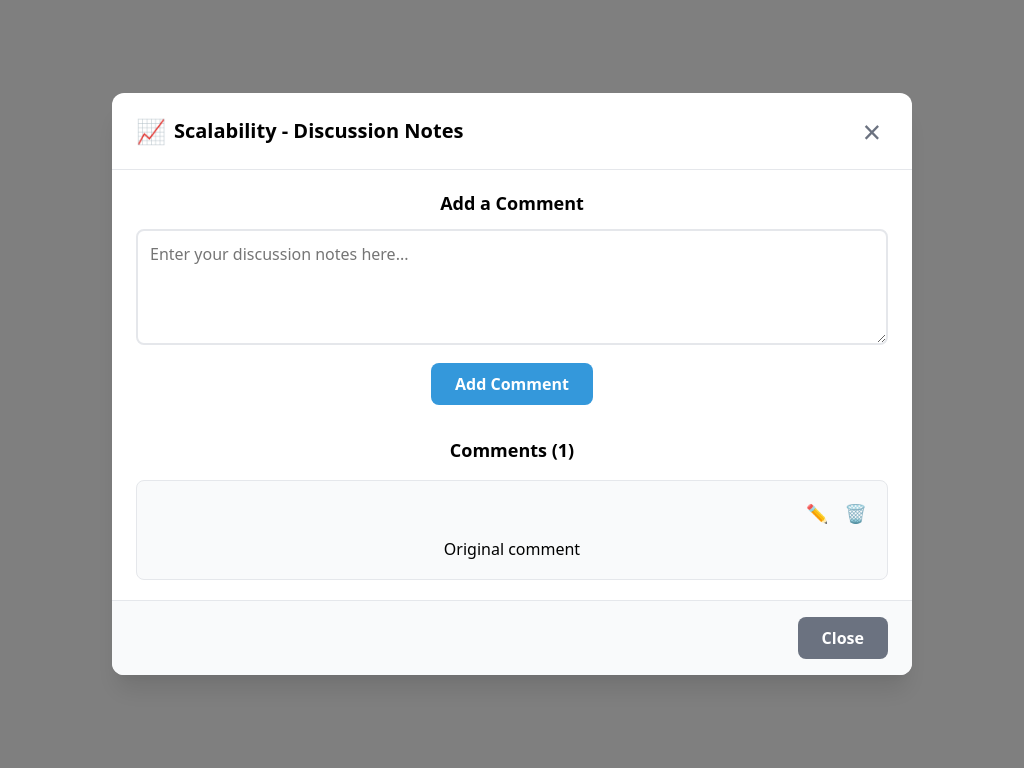
Test: DiscussionModal › Editing comments › should show edit mode when edit button is clicked
Click the button with class "edit-icon-button". click: (817, 513)
box: [802,497,833,529]
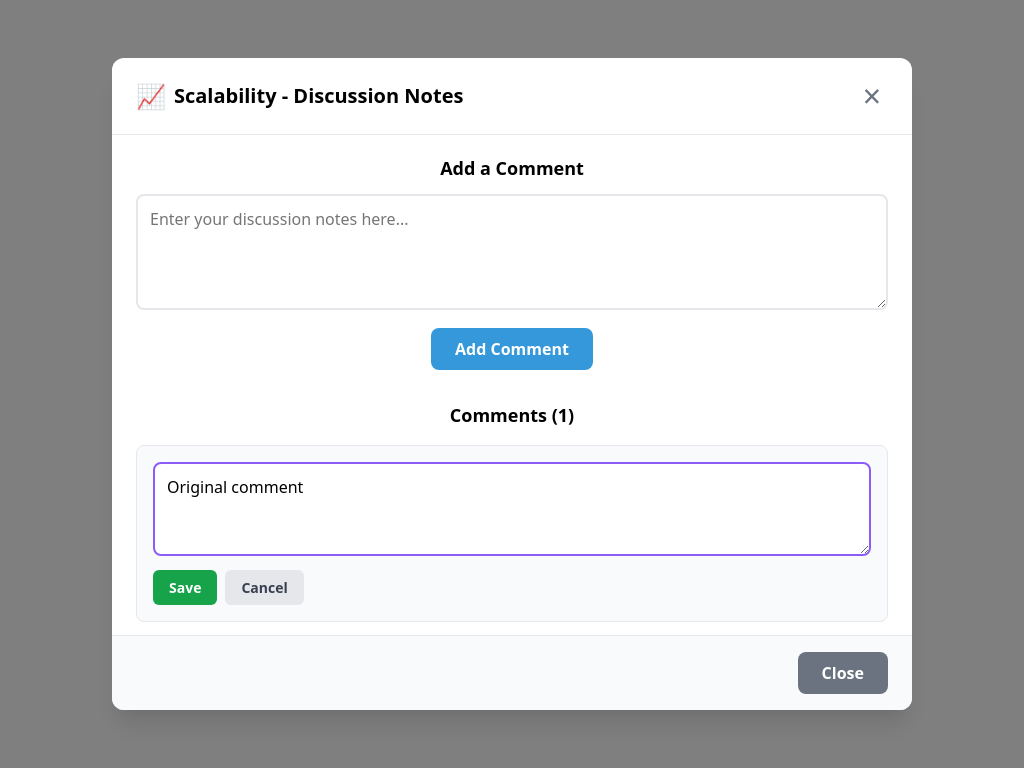
Expected: the element with class "edit-mode" is shown, [153,462,871,605]
